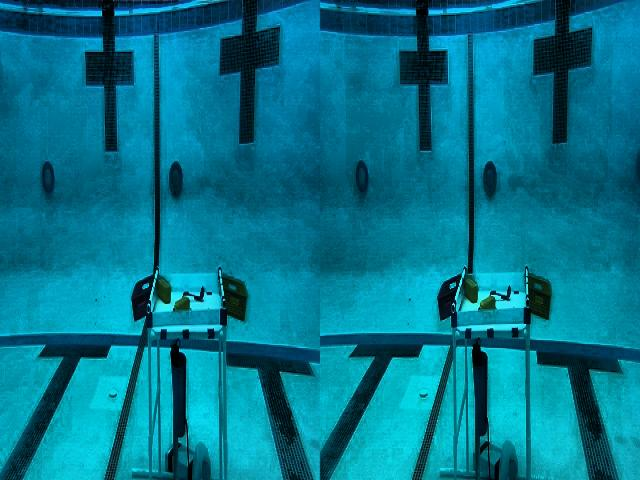octagon_table: (122, 238, 253, 480), (430, 240, 554, 480)
